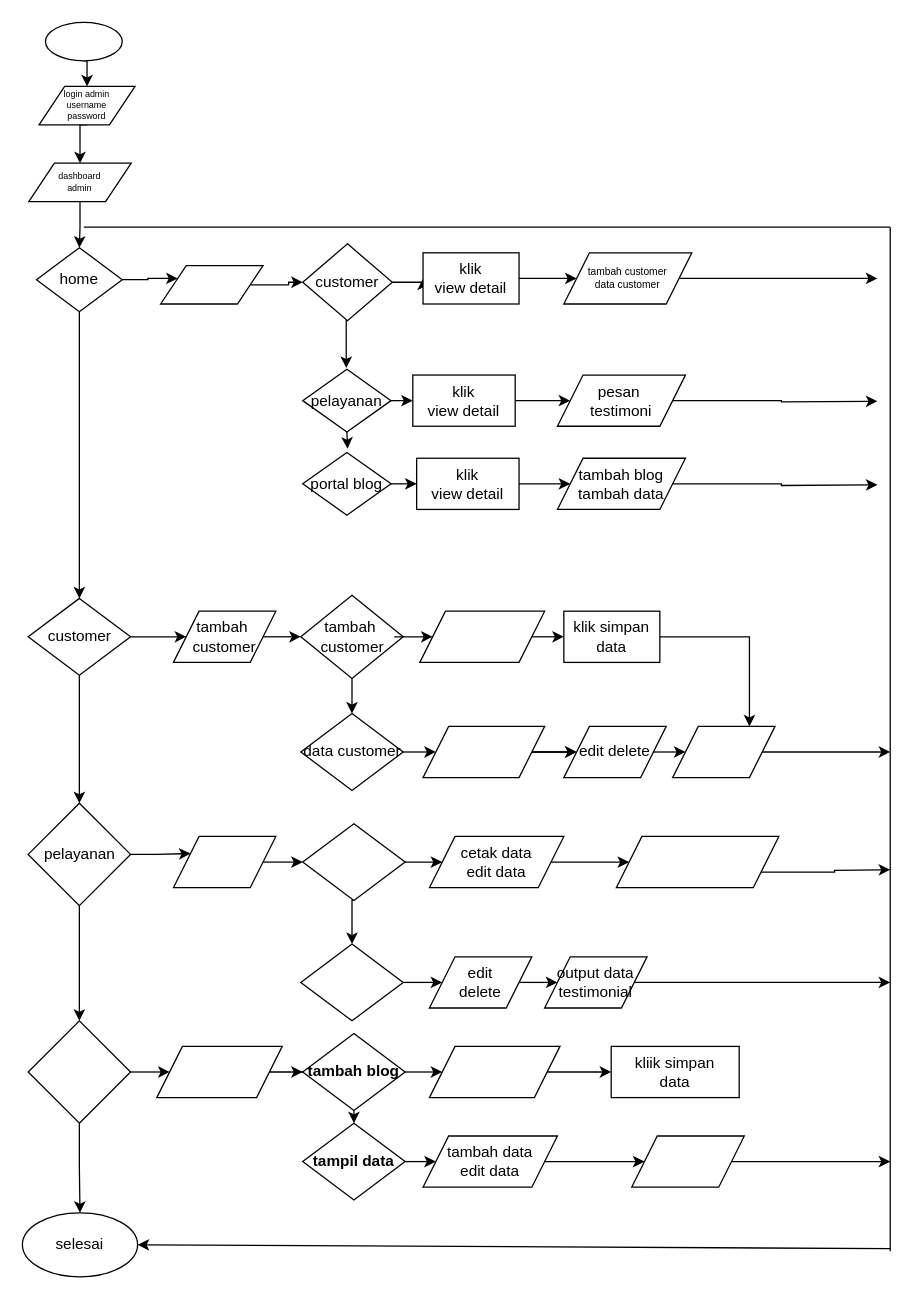
This 923x1299 diagram has some shape labels left out. The shapes that lost their labels are listed below. From the top down, each one's centre as x and y in pixels, then its label:
At pixel 83 41: "mulai".
At pixel 211 284: "data costumers data pelayanan data testimonial data blog".
At pixel 482 636: "input from tambah data".
At pixel 483 751: "tambah data dan cetak".
At pixel 723 751: "outpuit data pasien".
At pixel 224 861: "pesan testimonial".
At pixel 353 861: "pesan".
At pixel 697 861: "output data pesan pelayanan".
At pixel 351 982: "testimonial".
At pixel 79 1071: "partai blog".
At pixel 219 1071: "tambah blog tampil".
At pixel 494 1071: "form tambah data".
At pixel 687 1161: "output".
